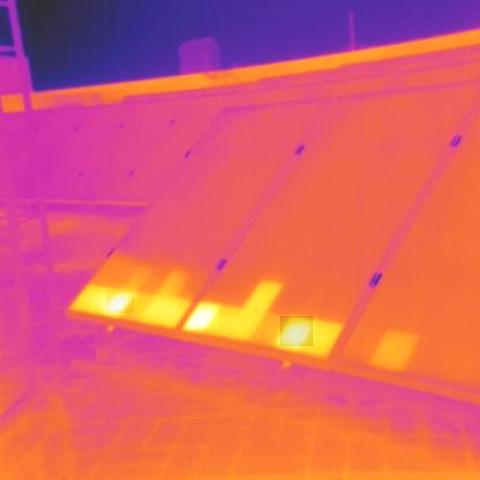fault: (280, 316, 313, 346), (187, 303, 219, 329), (106, 290, 134, 313)
